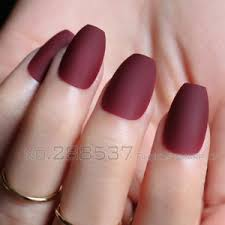nail: (102, 53, 157, 120), (163, 82, 209, 154), (58, 24, 106, 89), (27, 29, 75, 82)
